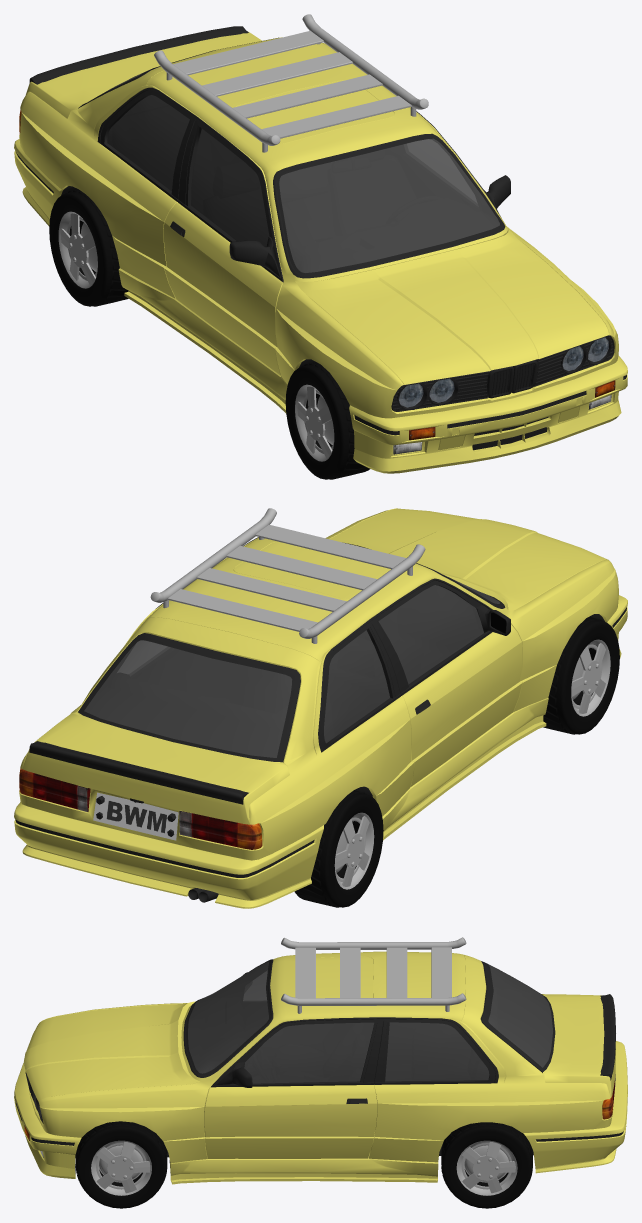
The model's file is player-car.fbx.
3 renders of one model, top to bottom at view 1: azimuth 30°, elevation 25°; view 2: azimuth 150°, elevation 25°; view 3: azimuth 270°, elevation 25°, orthographic. The views are drawn at different scales.
Parts seen in each view (by area): view 1: player-car, player-car-front-wheel-R, player-car-rear-wheel-R; view 2: player-car, player-car-rear-wheel-R, player-car-front-wheel-R; view 3: player-car, player-car-rear-wheel-L, player-car-front-wheel-L.
Boxes of the visible parts, bbox=[...] form: player-car: bbox=[14, 14, 627, 473]; player-car-front-wheel-R: bbox=[285, 362, 369, 479]; player-car-rear-wheel-R: bbox=[49, 189, 128, 306]; player-car: bbox=[14, 508, 627, 908]; player-car-rear-wheel-R: bbox=[294, 790, 383, 907]; player-car-front-wheel-R: bbox=[543, 616, 619, 734]; player-car: bbox=[14, 937, 627, 1184]; player-car-rear-wheel-L: bbox=[441, 1122, 532, 1208]; player-car-front-wheel-L: bbox=[75, 1121, 167, 1208].
Bounding box in the file's own units: 2.01 × 1.71 × 4.94.
